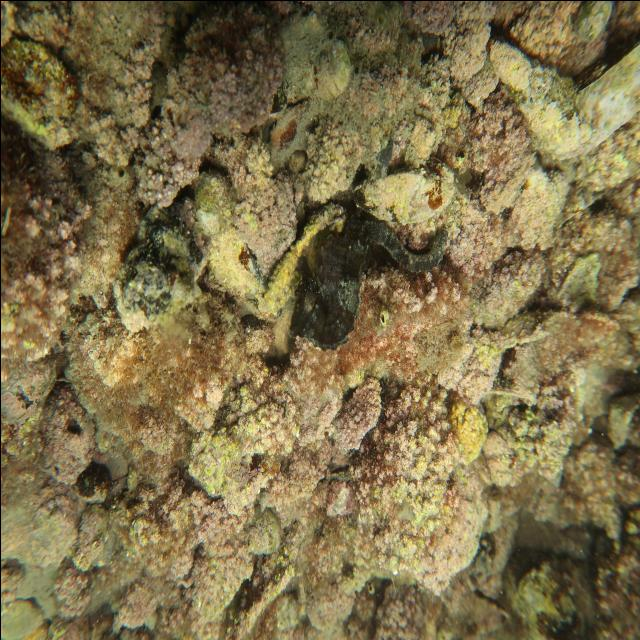Hippo: (289, 250, 324, 361)
